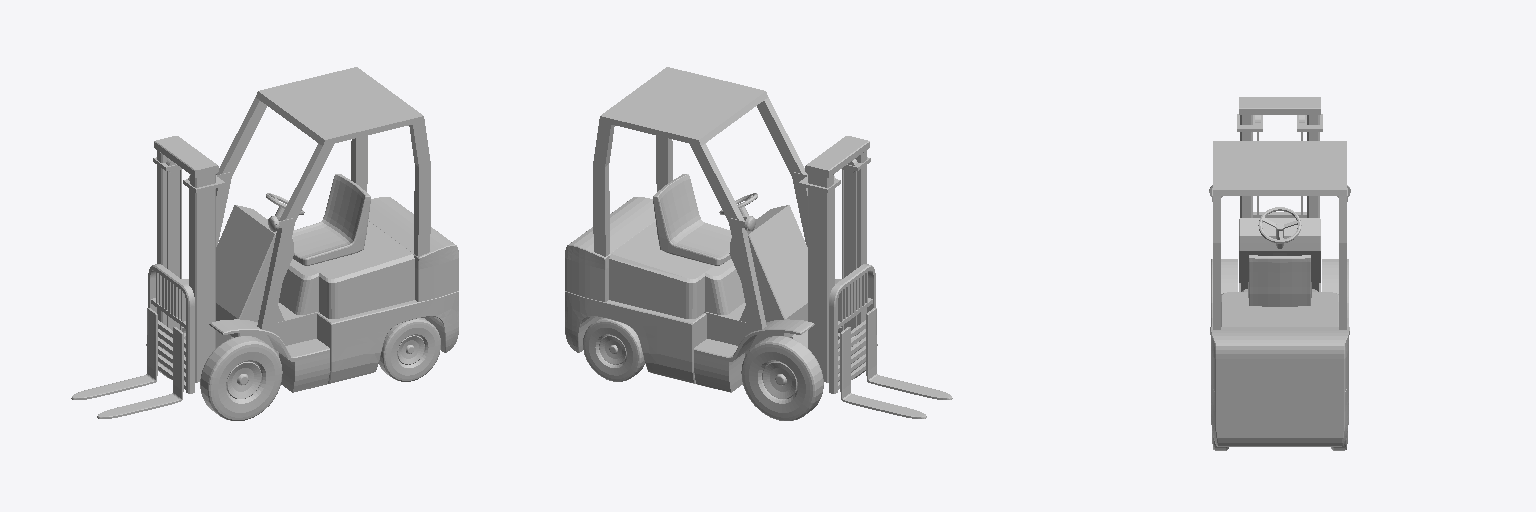
File: Forklift.obj
The picture shows the model from 3 angles: view 1: azimuth 30°, elevation 25°; view 2: azimuth 150°, elevation 25°; view 3: azimuth 270°, elevation 25°; orthographic projection.
Visible parts, largest first — view 1: Forklift; view 2: Forklift; view 3: Forklift.
Boxes of the visible parts, <box> form: Forklift: <box>71,67,458,420</box>; Forklift: <box>565,67,952,420</box>; Forklift: <box>1209,97,1350,450</box>.
Bounding box in the file's own units: 261 × 192 × 93.44.